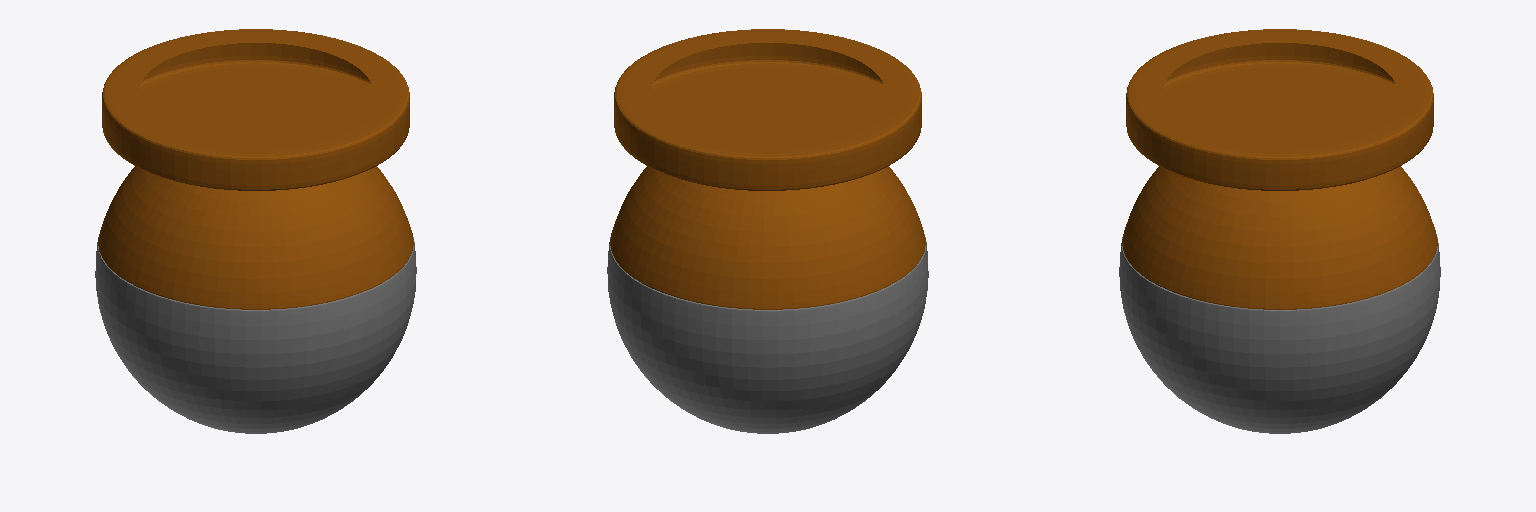
Rendered from Lamp.obj.
3 renders of one model, left to right at view 1: azimuth 30°, elevation 25°; view 2: azimuth 150°, elevation 25°; view 3: azimuth 270°, elevation 25°, orthographic.
Parts seen in each view (by area): view 1: Dual_wall_light; view 2: Dual_wall_light; view 3: Dual_wall_light.
Part boxes in pixels (x1,y1,x2,y2): Dual_wall_light: (95,29,416,433); Dual_wall_light: (607,29,928,433); Dual_wall_light: (1119,29,1440,433).
Bounding box in the file's own units: 0.0987 × 0.1109 × 0.0987.